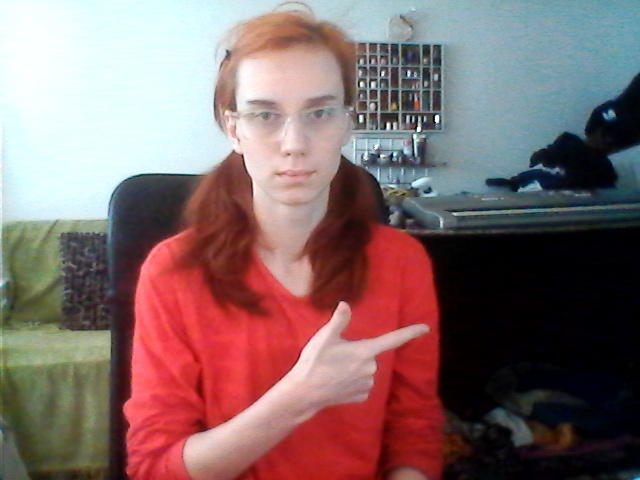dva_dve: (280, 299, 435, 408)
